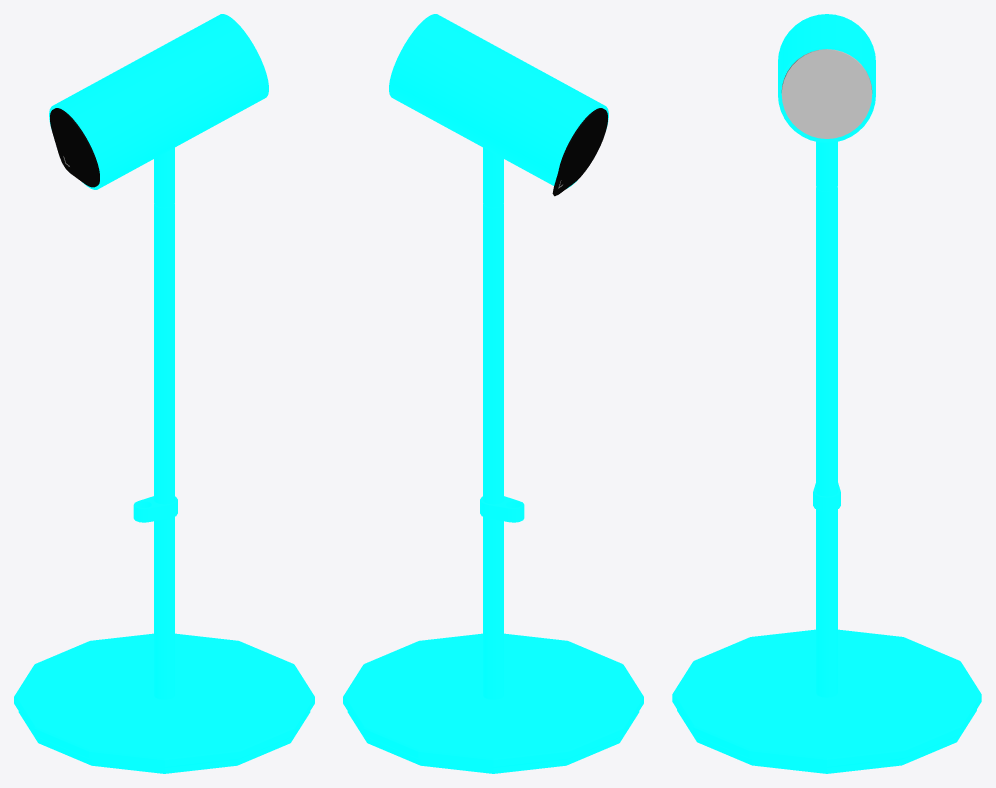
File: oculusSensorv2.fbx
The picture shows the model from 3 angles, left to right: view 1: azimuth 30°, elevation 25°; view 2: azimuth 150°, elevation 25°; view 3: azimuth 270°, elevation 25°; orthographic projection. The views are drawn at different scales.
Parts seen in each view (by area): view 1: senso_feet.010; view 2: senso_feet.010; view 3: senso_feet.010.
Boxes of the visible parts, <box> form: senso_feet.010: <box>14,14,314,773</box>; senso_feet.010: <box>343,14,643,773</box>; senso_feet.010: <box>672,14,981,773</box>.
Size of the model in its own units: 11.98 by 29.81 by 11.98.
4 materials, 2 textured.
